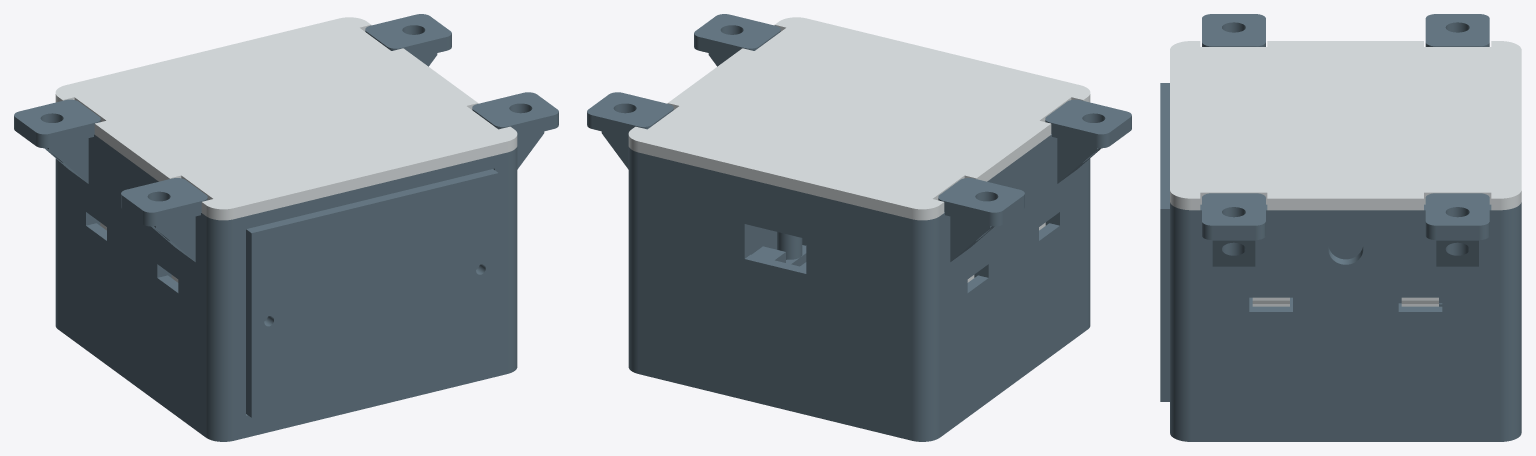
Rendered from case-no-oled.glb.
3 views of the same model, side by side, from view 1: azimuth 30°, elevation 25°; view 2: azimuth 150°, elevation 25°; view 3: azimuth 270°, elevation 25° (orthographic). The views are drawn at different scales.
Visible parts, largest first — view 1: case-no-oled (×2); view 2: case-no-oled (×2); view 3: case-no-oled (×2).
Part boxes in pixels (<box>): case-no-oled (×2): <box>14,14,558,441</box>; case-no-oled (×2): <box>587,14,1131,441</box>; case-no-oled (×2): <box>1160,14,1521,441</box>.
Size of the model in its own units: 0.094 by 0.0504 by 0.0678.
